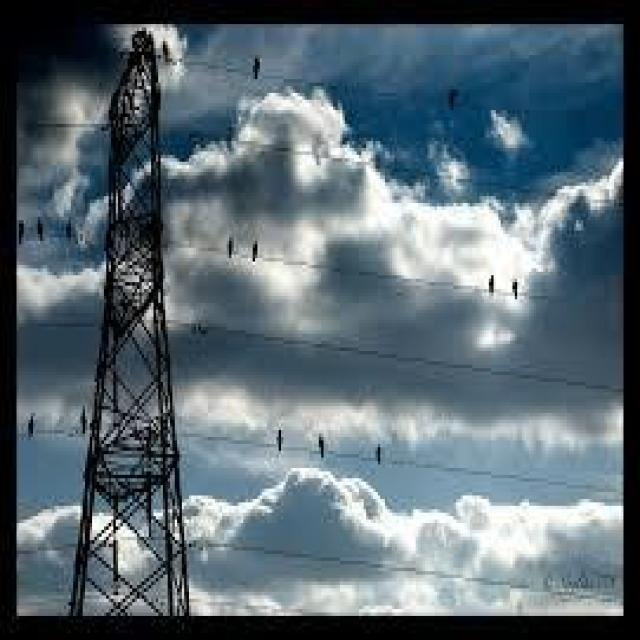bird: (25, 407, 38, 443), (371, 438, 385, 471), (17, 210, 28, 246), (314, 433, 328, 459), (76, 404, 88, 434), (508, 276, 520, 303), (251, 53, 262, 80), (488, 272, 498, 300), (161, 36, 172, 61), (38, 210, 46, 242), (448, 86, 457, 114), (250, 236, 258, 265), (276, 427, 285, 452), (228, 236, 234, 261)
